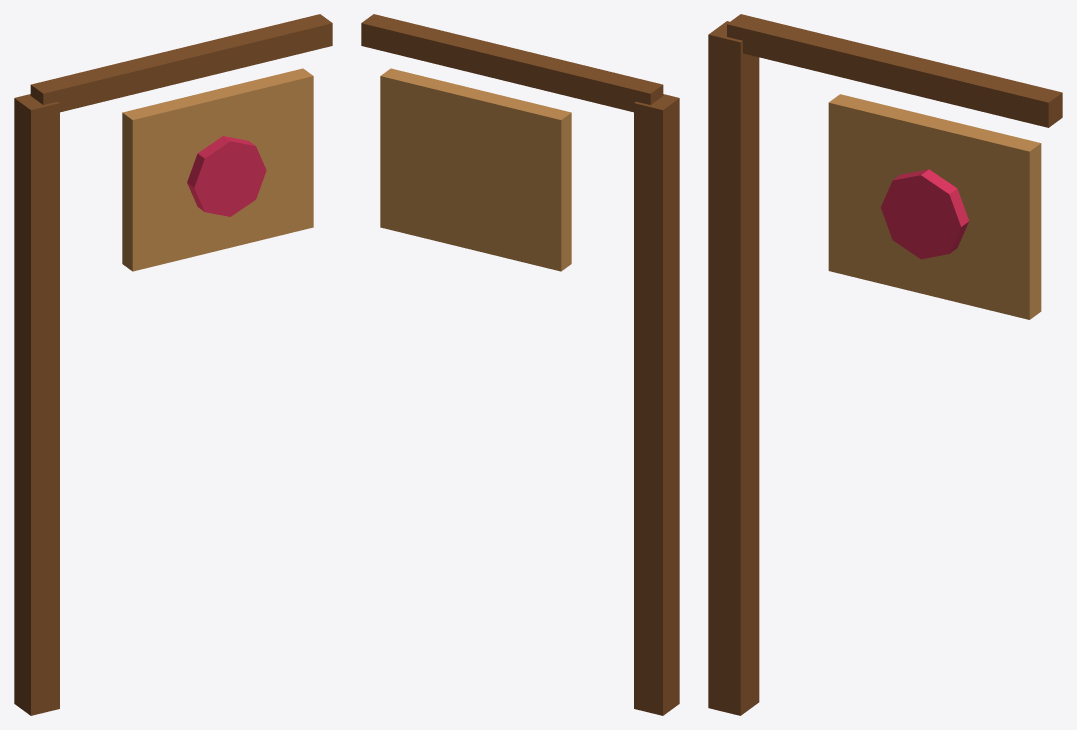
The model's file is hanging_sign.glb.
3 renders of one model, left to right at view 1: azimuth 30°, elevation 25°; view 2: azimuth 150°, elevation 25°; view 3: azimuth 330°, elevation 25°, orthographic. The views are drawn at different scales.
Parts seen in each view (by area): view 1: hanging_sign; view 2: hanging_sign; view 3: hanging_sign.
Boxes of the visible parts, box(x1,y1,x2,y2) form: hanging_sign: box(14, 14, 332, 715); hanging_sign: box(361, 14, 679, 715); hanging_sign: box(708, 14, 1062, 715).
Size of the model in its own units: 0.84 by 1.63 by 0.1.
